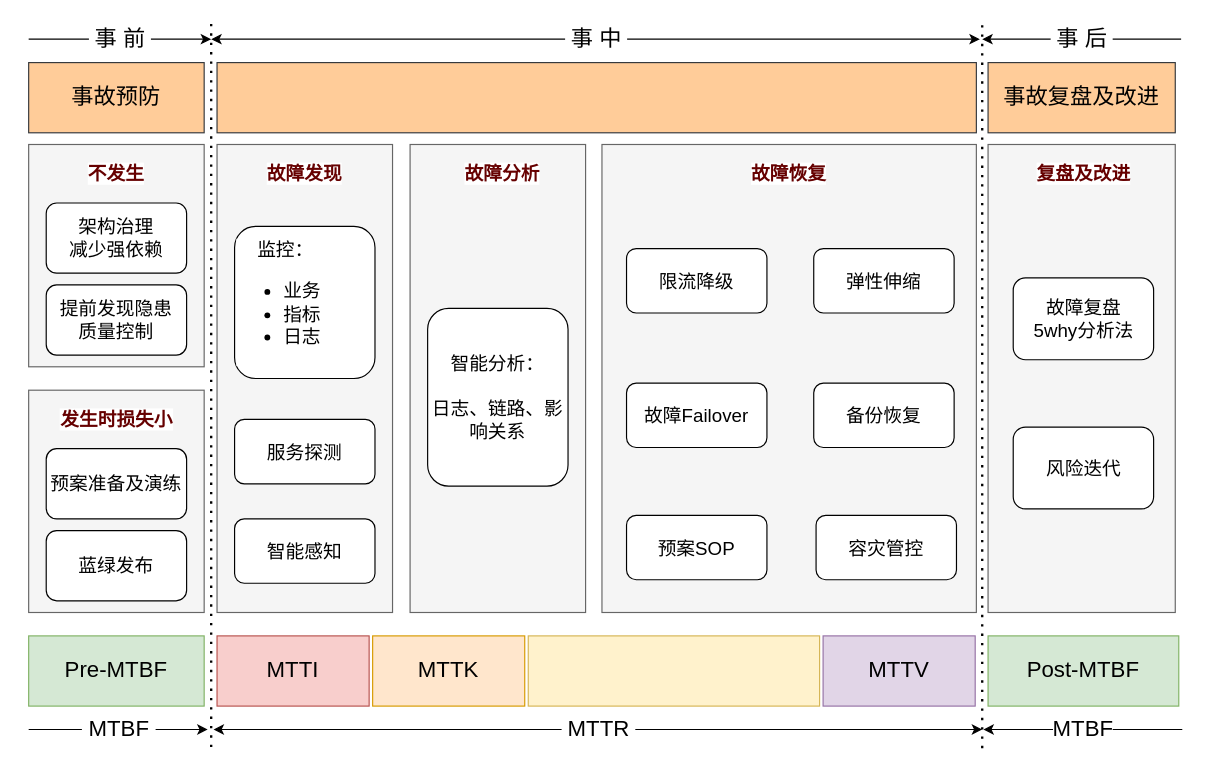
The diagram is 1212 pixels wide and 770 high, and some of its shapes have lost their labels. Here are the shapes that lost their labels. From the top down, the box of each, then its label:
(216, 61, 976, 133): 快速止损 三分钟响应，五分钟定位，十分钟恢复
(527, 635, 820, 706): MTTF
